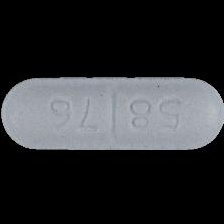0603-5770: (0, 0, 224, 224)
